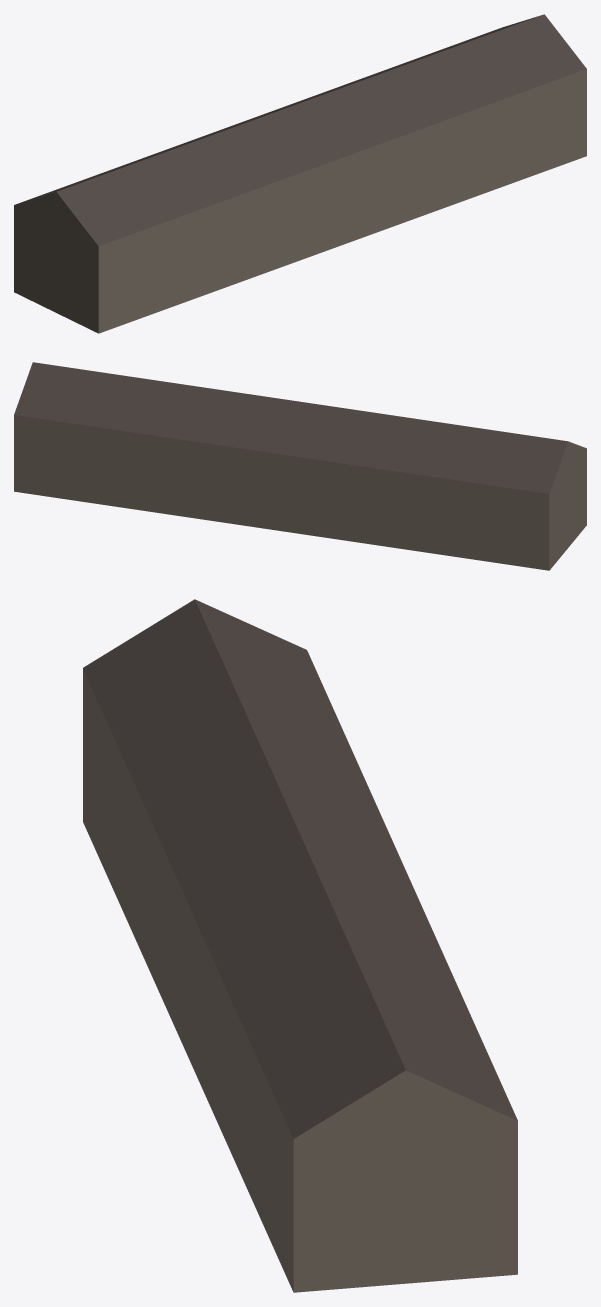
3 renders of one model, top to bottom at view 1: azimuth 30°, elevation 25°; view 2: azimuth 150°, elevation 25°; view 3: azimuth 270°, elevation 25°, orthographic. The views are drawn at different scales.
Visible parts, largest first — view 1: HP-w408450634; view 2: HP-w408450634; view 3: HP-w408450634.
Part boxes in pixels (x1,y1,x2,y2): HP-w408450634: [14, 14, 586, 333]; HP-w408450634: [14, 362, 586, 570]; HP-w408450634: [83, 599, 517, 1292].
Size of the model in its own units: 40.98 by 8.34 by 15.41.
